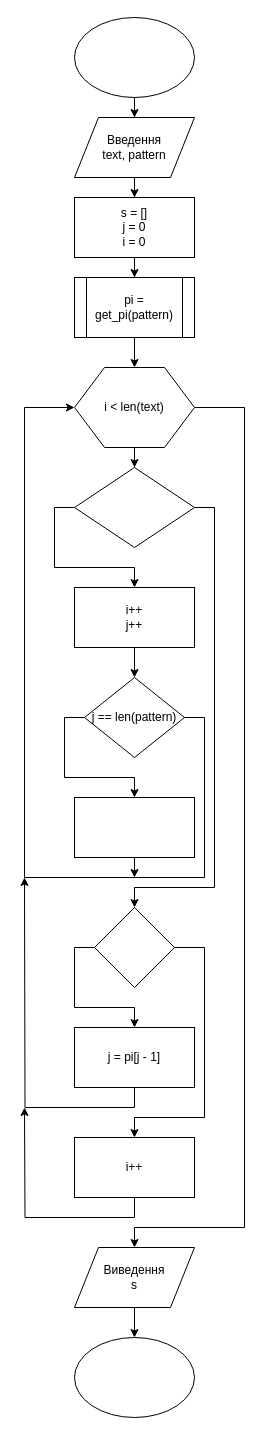
This 270x1435 diagram has some shape labels left out. The shapes that lost their labels are listed below. From the top down, each one's centre as x and y in pixels, then its label:
(134,57): Початок
(134,507): text[i] == pattern[j]
(134,827): s.append(i - j) j = 0
(134,947): j != 0
(134,1377): Кінець
